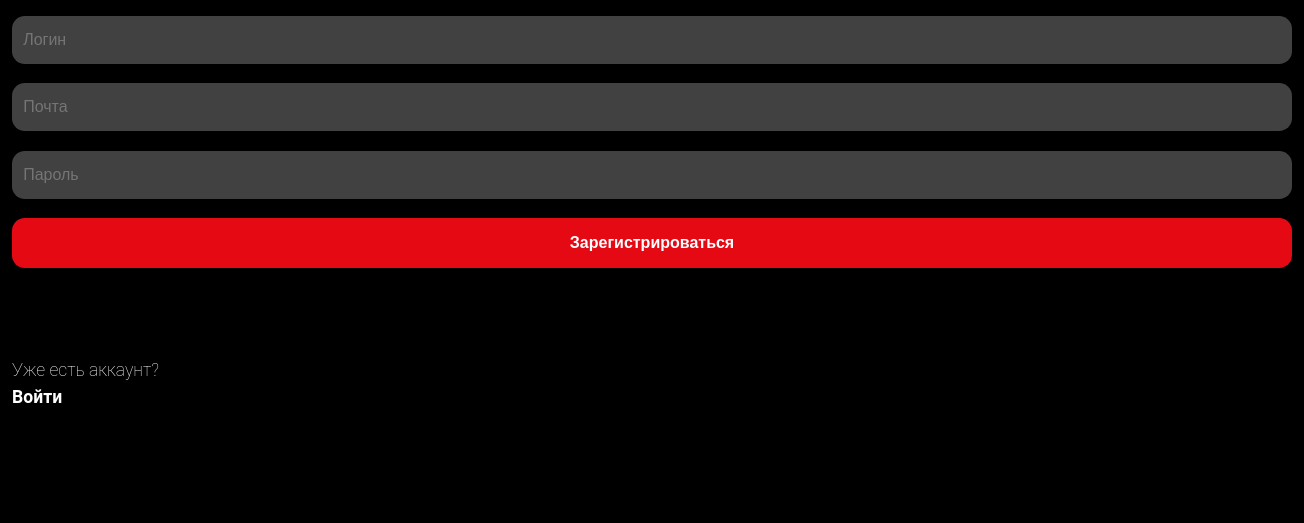
Scenario: CustomForm Signup › Выводит ошибку неправильного формата пароля
Type "abcd" into the password field with placeholder "Пароль". click: (652, 175)
box: [12,151,1292,199]
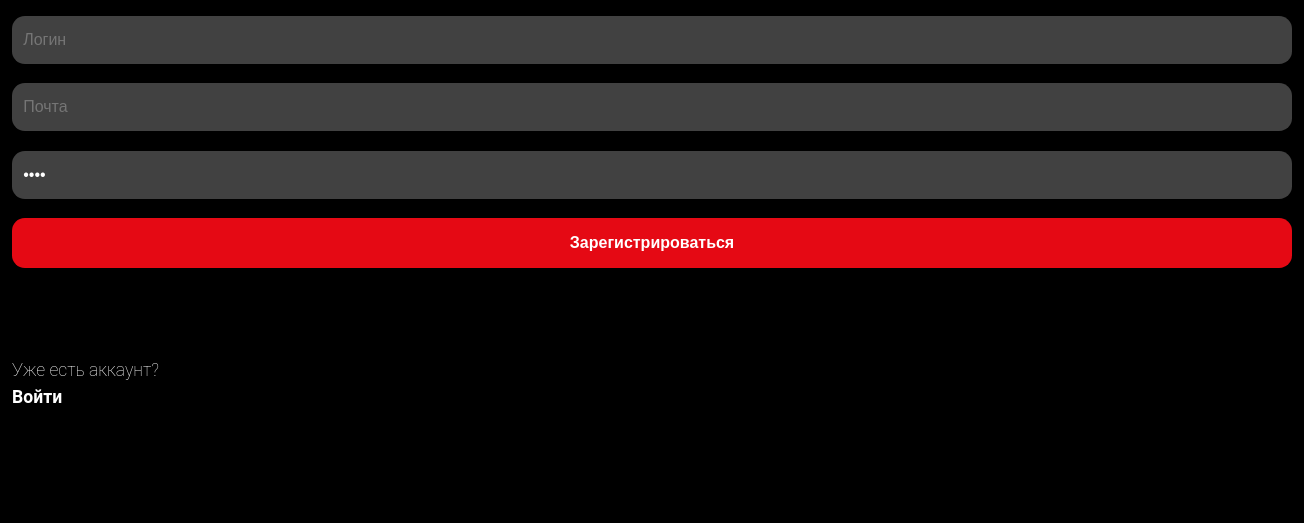
Submit the form
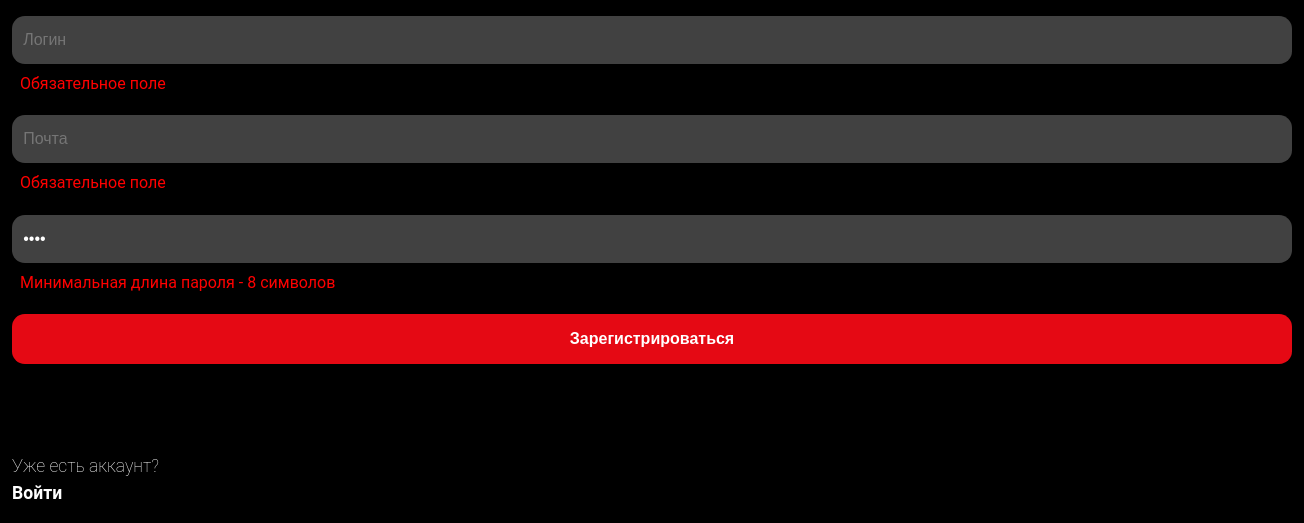
Result: the text "Минимальная длина пароля - 8 символов" is shown at [20,273,335,292]
Type "thisstringismorethan30symbols;!" into the password field with placeholder "Пароль". click: (652, 239)
box: [12,215,1292,263]
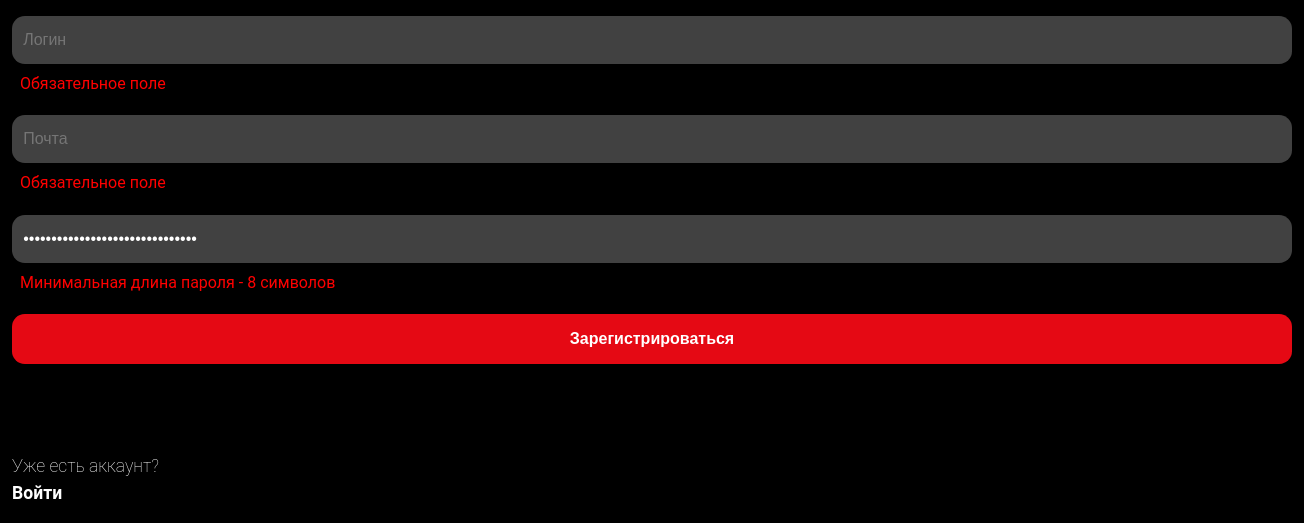
Submit the form
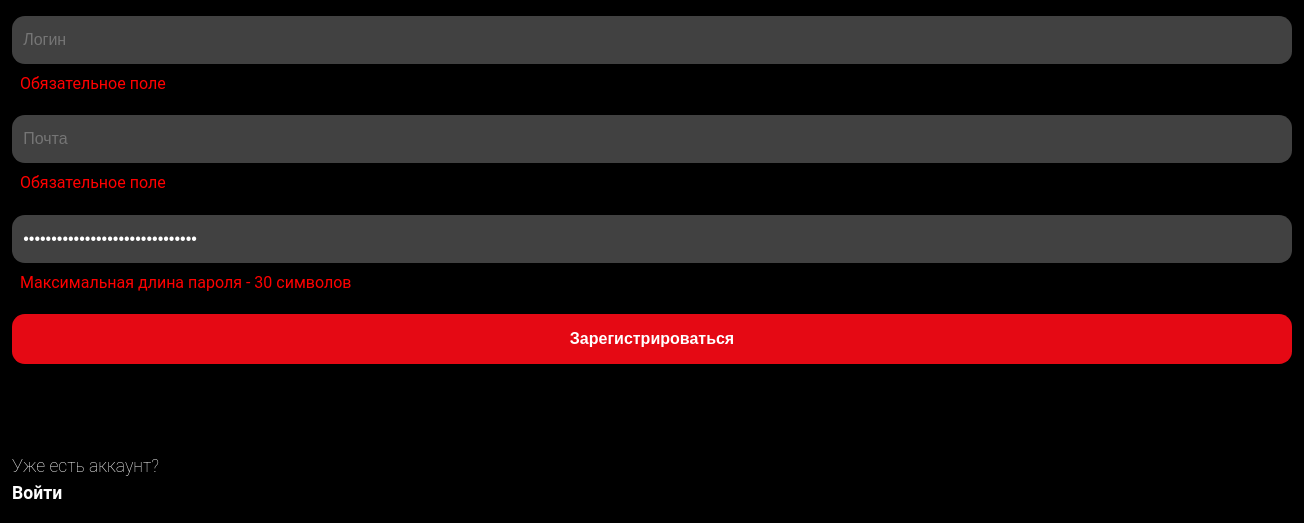
Result: the text "Максимальная длина пароля - 30 символов" is shown at [20,273,352,292]
Type "pswNoSpecSymbol" into the password field with placeholder "Пароль". click: (652, 239)
box: [12,215,1292,263]
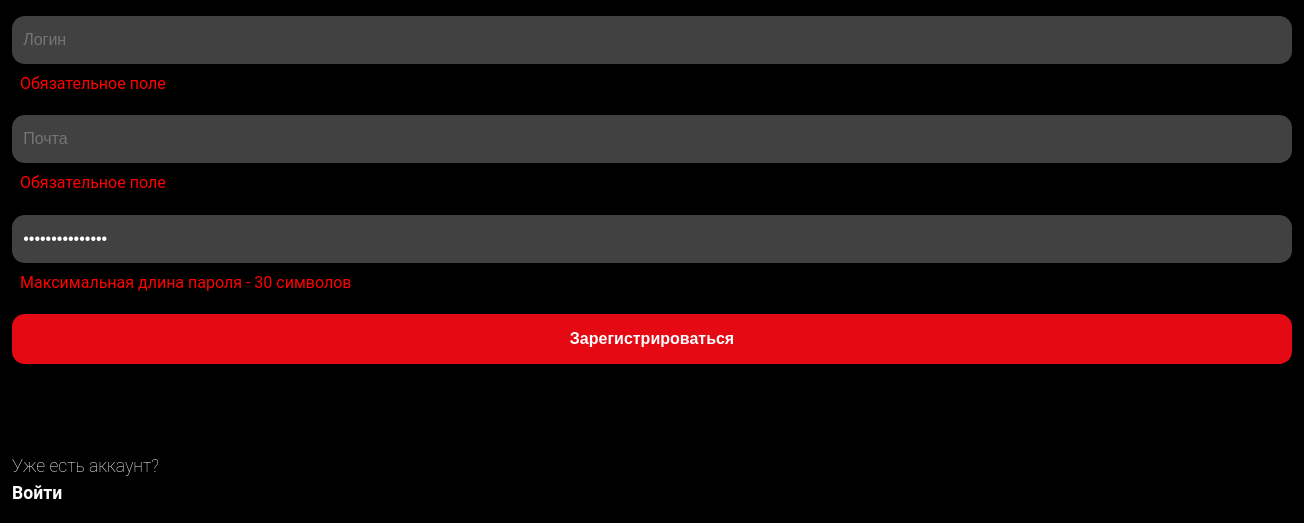
Submit the form
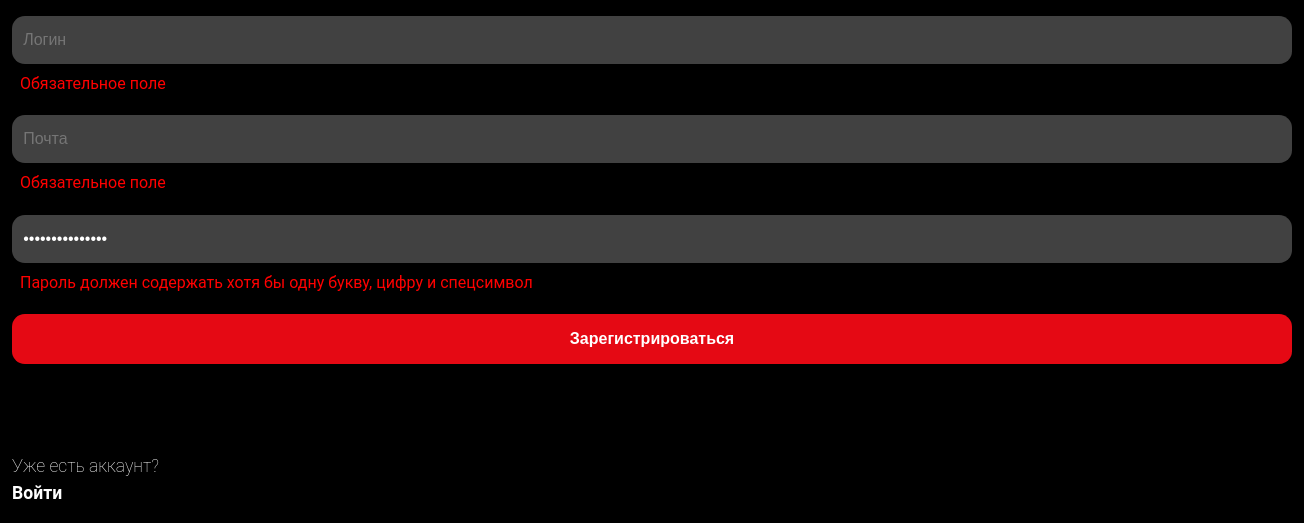
Result: the text "Пароль должен содержать хотя бы одну букву, цифру и спецсимвол" is shown at [20,273,533,292]
